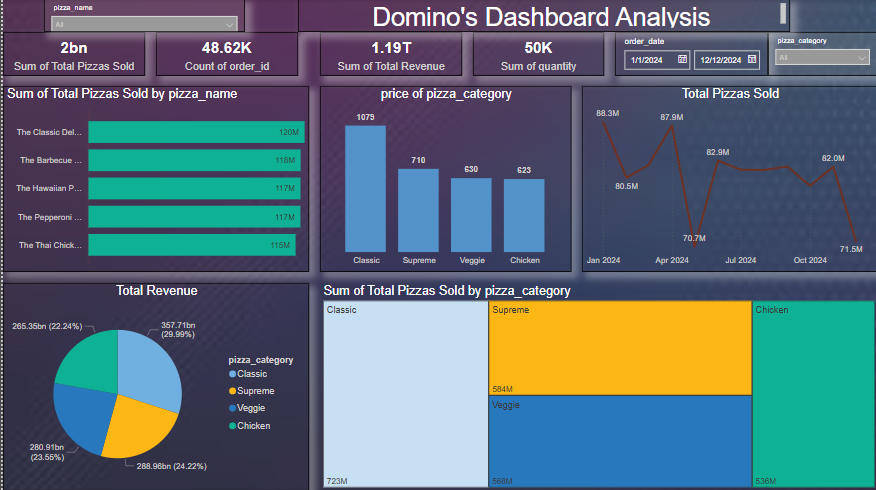

Layout of this report page (visuals, bound fields, positions):
{"tool":"powerbi","page":{"name":"Page 1","canvas":[1280,720],"ordinal":0},"visuals":[{"type":"pieChart","title":"Total Revenue ","fields":{"Category":["Dataset.pizza_category"],"Y":["Sum(Dataset.Total Revenue)"]},"box":[0,415.6,447.8,304.4],"z":0},{"type":"barChart","fields":{"Category":["Dataset.pizza_name"],"Y":["Sum(Dataset.Total Pizzas Sold)"]},"box":[0,128,448,272],"z":1000},{"type":"lineChart","title":" Total Pizzas Sold ","fields":{"Y":["Sum(Dataset.Total Pizzas Sold)"],"Category":["Dataset.order_date.Variation.Date Hierarchy.Year","Dataset.order_date.Variation.Date Hierarchy.Month"]},"box":[848,128,432,272],"z":2000},{"type":"treemap","fields":{"Group":["Dataset.pizza_category"],"Values":["Sum(Dataset.Total Pizzas Sold)"]},"box":[463.9,415.6,816.6,304.4],"z":3000},{"type":"columnChart","title":"price of  pizza_category","fields":{"Category":["Dataset.pizza_category"],"Y":["Max(Dataset.price)"]},"box":[464,128,368,272],"z":4000},{"type":"card","fields":{"Values":["Sum(Dataset.Total Pizzas Sold)"]},"box":[0,48,208,64],"z":5000},{"type":"card","fields":{"Values":["CountNonNull(Dataset.order_id)"]},"box":[224,48,208,64],"z":6000},{"type":"card","fields":{"Values":["Sum(Dataset.Total Revenue)"]},"box":[464,48,208,64],"z":7000},{"type":"card","fields":{"Values":["Sum(Dataset.quantity)"]},"box":[688,48,192,64],"z":8000},{"type":"slicer","fields":{"Values":["Dataset.order_date"]},"box":[896,48,224,64],"z":9000},{"type":"slicer","fields":{"Values":["Dataset.pizza_category"]},"box":[1120,48,160,64],"z":10000},{"type":"textbox","box":[432,0,720,48],"z":11000},{"type":"slicer","fields":{"Values":["Dataset.pizza_name"]},"box":[60,0,294.1,48.3],"z":11001}]}

Visuals, with their boxes in screenshot pixels (x1, y1, x2, y2), scaled from the page's 1280x720 canvas onto the 876x490 screenshot:
"Total Revenue " pieChart: (0, 283, 306, 489)
barChart - Dataset.pizza_name x Sum(Dataset.Total Pizzas Sold): (0, 87, 307, 272)
" Total Pizzas Sold " lineChart: (580, 87, 875, 272)
treemap - Dataset.pizza_category x Sum(Dataset.Total Pizzas Sold): (317, 283, 875, 489)
"price of  pizza_category" columnChart: (318, 87, 569, 272)
card - Sum(Dataset.Total Pizzas Sold): (0, 33, 142, 76)
card - CountNonNull(Dataset.order_id): (153, 33, 296, 76)
card - Sum(Dataset.Total Revenue): (318, 33, 460, 76)
card - Sum(Dataset.quantity): (471, 33, 602, 76)
slicer - Dataset.order_date: (613, 33, 766, 76)
slicer - Dataset.pizza_category: (766, 33, 875, 76)
textbox: (296, 0, 788, 33)
slicer - Dataset.pizza_name: (41, 0, 242, 33)
